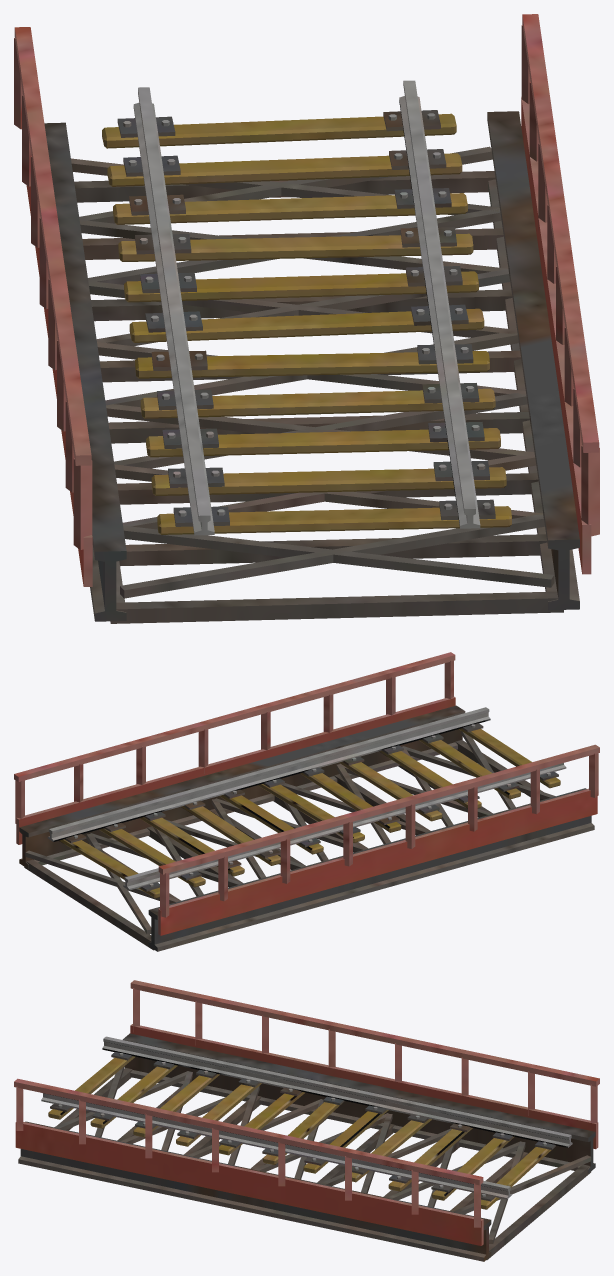
The model's file is elevated-half-diagonal-rail-ne.glb.
The picture shows the model from 3 angles, top to bottom: view 1: azimuth 30°, elevation 25°; view 2: azimuth 150°, elevation 25°; view 3: azimuth 270°, elevation 25°; orthographic projection. The views are drawn at different scales.
Visible parts, largest first — view 1: body; view 2: body; view 3: body.
Part boxes in pixels (x1,y1,x2,y2): body: (14, 14, 599, 623); body: (14, 652, 599, 951); body: (14, 980, 599, 1261).
Size of the model in its own units: 4.07 by 0.825 by 5.03.
1 material, 1 textured.
